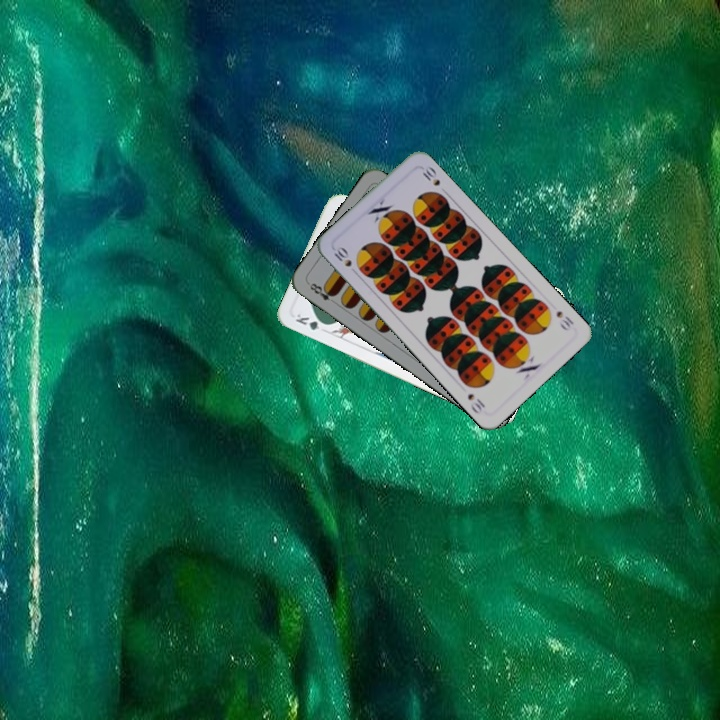E8: (304, 279, 339, 307)
GK: (291, 310, 331, 335)
S10: (329, 242, 360, 277), (552, 307, 576, 333)
